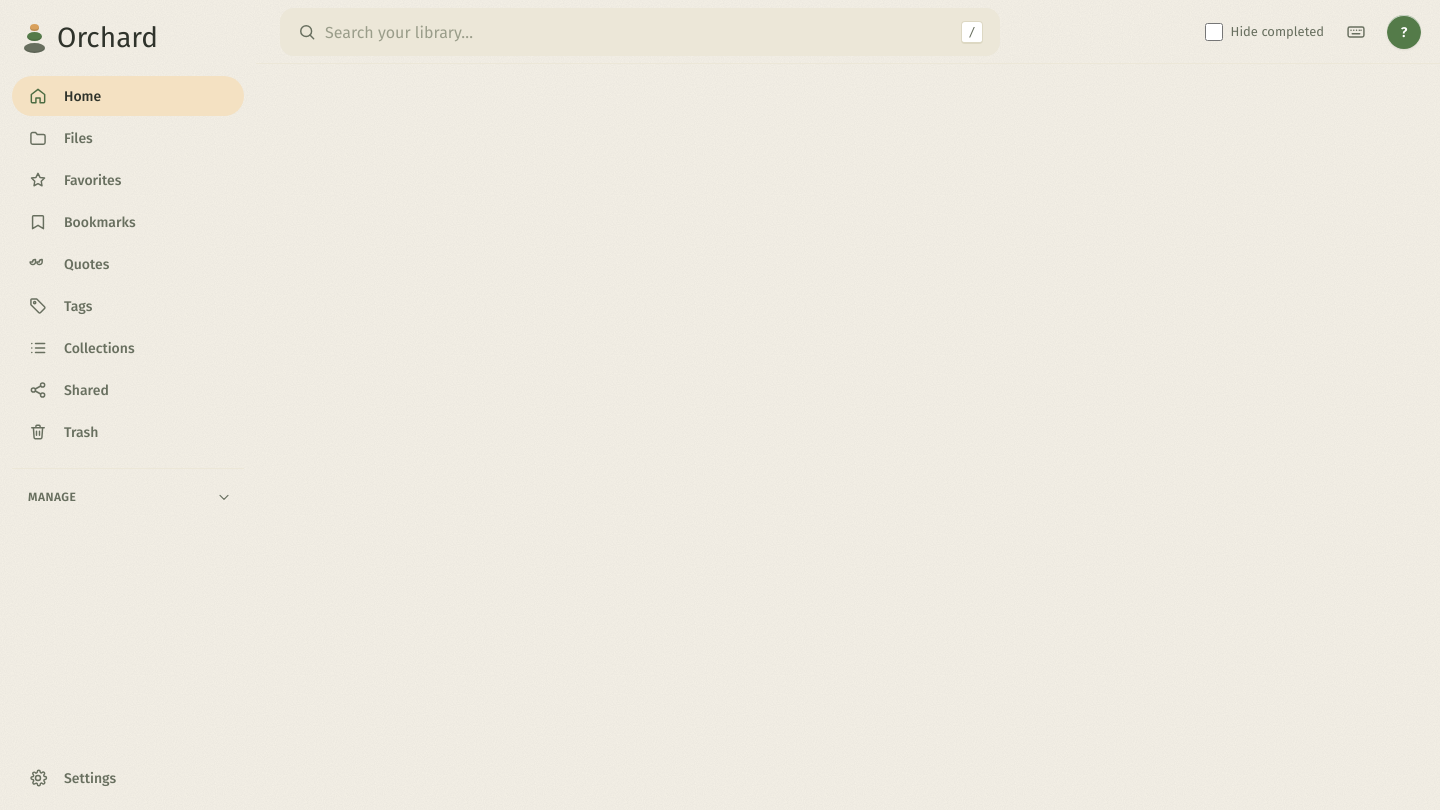
Test: AppShell › keeps organizing and upkeep in a collapsible Manage group
Click the button "Manage" at (128, 497), box top-left (12, 481), bottom-right (244, 513)
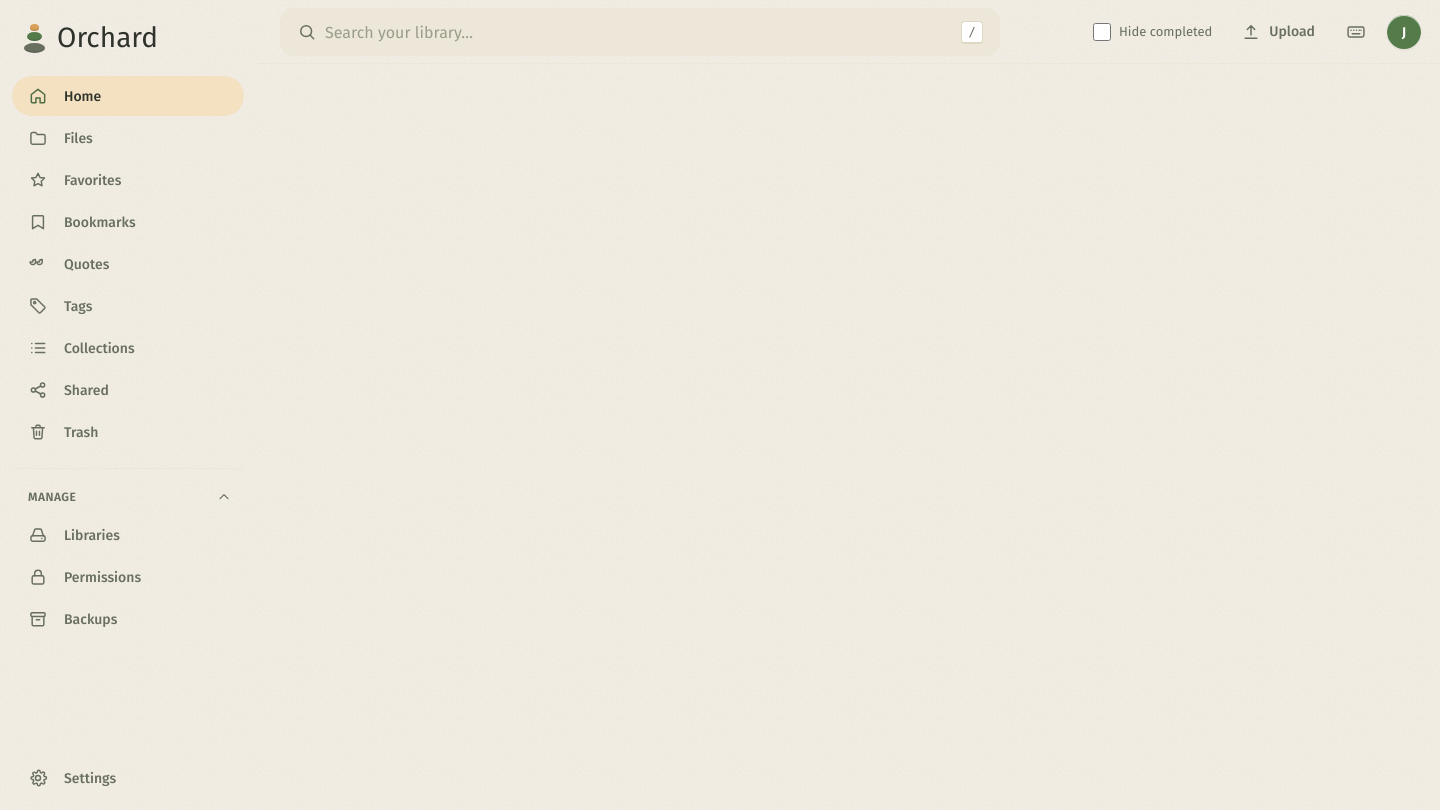
Now the links read "Libraries", "Permissions", "Backups", in this order, box top-left (28, 525), bottom-right (120, 545); top-left (28, 567), bottom-right (141, 587); top-left (28, 609), bottom-right (117, 629)
